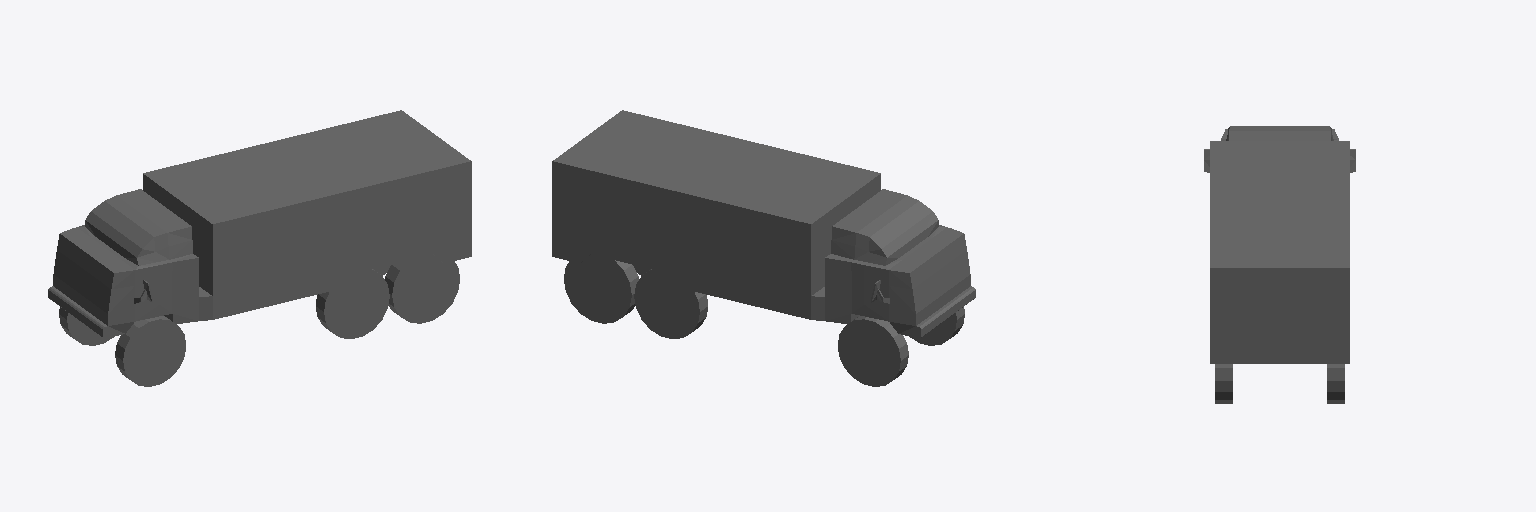
File: truck.obj
The picture shows the model from 3 angles: view 1: azimuth 30°, elevation 25°; view 2: azimuth 150°, elevation 25°; view 3: azimuth 270°, elevation 25°; orthographic projection.
Parts seen in each view (by area): view 1: truck; view 2: truck; view 3: truck.
Boxes of the visible parts, box(x1,y1,x2,y2) form: truck: box(48, 110, 471, 386); truck: box(552, 110, 975, 386); truck: box(1204, 126, 1355, 403).
Bounding box in the file's own units: 25.62 × 10.34 × 9.33.